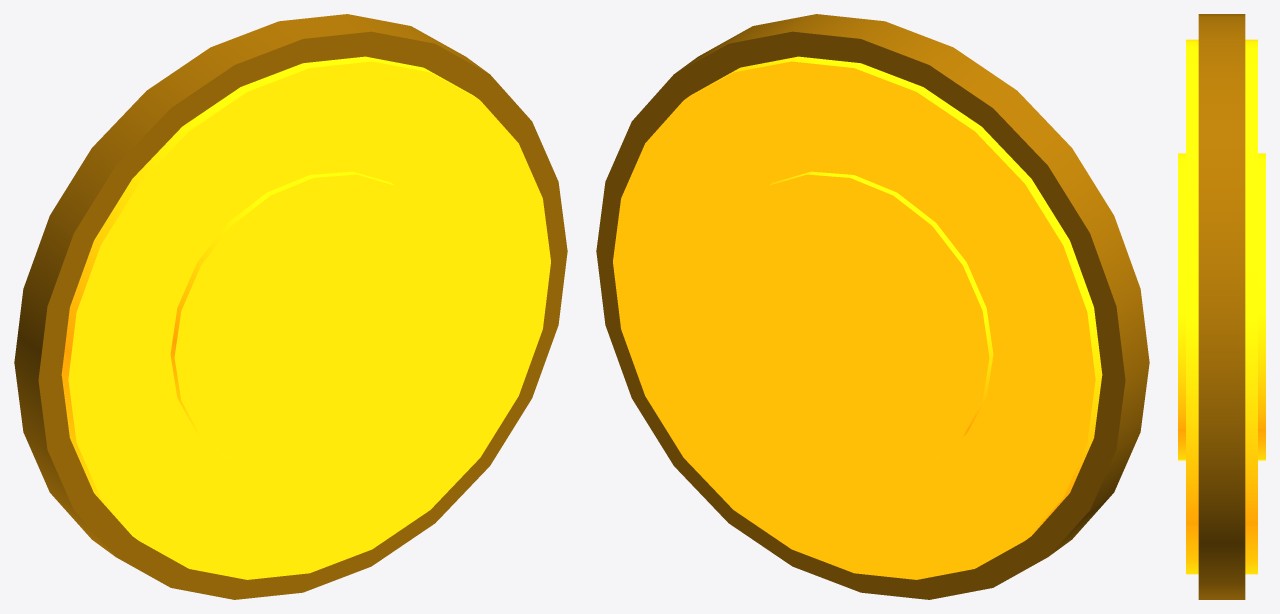
File: breadcrumb.glb
3 renders of one model, left to right at view 1: azimuth 30°, elevation 25°; view 2: azimuth 150°, elevation 25°; view 3: azimuth 270°, elevation 25°, orthographic. The views are drawn at different scales.
Parts seen in each view (by area): view 1: CoinSpin; view 2: CoinSpin; view 3: CoinSpin.
Part boxes in pixels (box(x1,y1,x2,y2)): CoinSpin: box(14, 14, 567, 599); CoinSpin: box(596, 14, 1149, 599); CoinSpin: box(1178, 14, 1265, 599).
Bounding box in the file's own units: 0.57 × 0.57 × 0.085.
